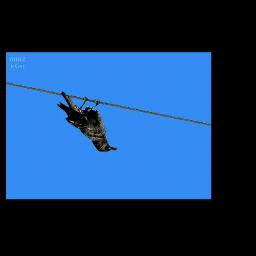Crow: (56, 91, 120, 153)
